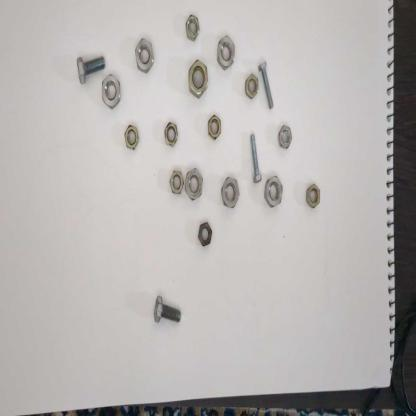Bolts: (152, 292, 185, 331), (75, 53, 109, 84), (257, 58, 275, 108), (247, 133, 263, 187)
NUTS: (185, 58, 212, 100), (98, 72, 124, 109), (134, 34, 156, 75), (219, 174, 241, 210), (184, 164, 204, 201), (264, 174, 285, 206), (217, 33, 235, 70), (273, 124, 294, 151), (304, 180, 322, 210), (184, 13, 202, 42), (122, 124, 140, 153), (168, 165, 183, 198), (197, 220, 214, 249), (164, 120, 179, 150), (206, 112, 222, 140), (244, 72, 258, 102)
